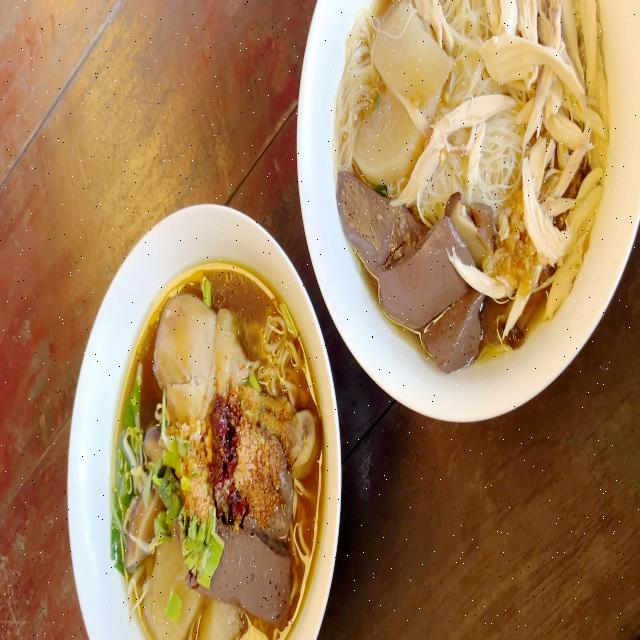boiled_chicken_blood_jelly: (341, 178, 493, 361), (214, 521, 293, 619), (274, 446, 293, 542)
chicken_drumstick: (150, 290, 318, 475)
chicken_shredded: (478, 2, 608, 150), (509, 143, 591, 311)
daikon_radish: (365, 5, 433, 176), (144, 548, 198, 630)
noodle: (340, 0, 617, 365), (108, 285, 320, 640)
